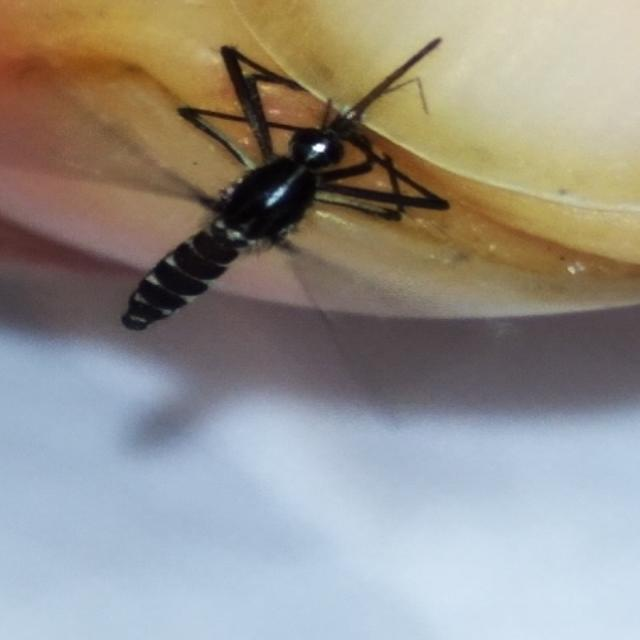albopictus: (95, 32, 478, 347)
